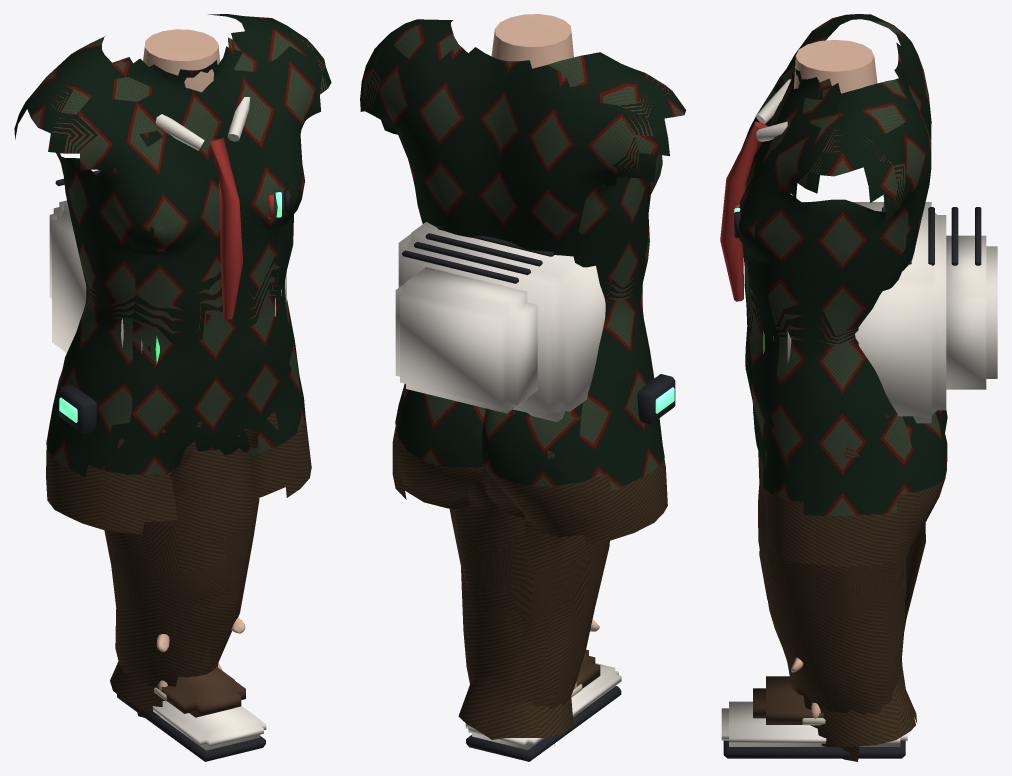
The picture shows the model from 3 angles, left to right: view 1: azimuth 30°, elevation 25°; view 2: azimuth 150°, elevation 25°; view 3: azimuth 270°, elevation 25°; orthographic projection. The views are drawn at different scales.
Parts seen in each view (by area): view 1: Torso, ThighL, ThighR, ShinL, Head; view 2: Torso, Head, ThighL, ThighR, ShinL; view 3: Torso, Head, ThighR, ShinL, ThighL.
Boxes of the visible parts, left/top/right/bottom form: Torso: left=14, top=14, right=331, bottom=534; ThighL: left=104, top=441, right=231, bottom=717; ThighR: left=110, top=428, right=259, bottom=716; ShinL: left=117, top=666, right=266, bottom=761; Head: left=49, top=170, right=286, bottom=363; Torso: left=360, top=14, right=685, bottom=544; Head: left=395, top=222, right=642, bottom=421; ThighL: left=458, top=468, right=609, bottom=745; ThighR: left=449, top=478, right=573, bottom=739; ShinL: left=453, top=509, right=621, bottom=761; Torso: left=720, top=14, right=947, bottom=567; Head: left=763, top=195, right=997, bottom=423; ThighR: left=758, top=459, right=917, bottom=761; ShinL: left=721, top=523, right=925, bottom=758; ThighL: left=753, top=412, right=915, bottom=746.
Bounding box in the file's own units: 0.4827 × 1.05 × 0.382.
11 materials, 4 textured.
